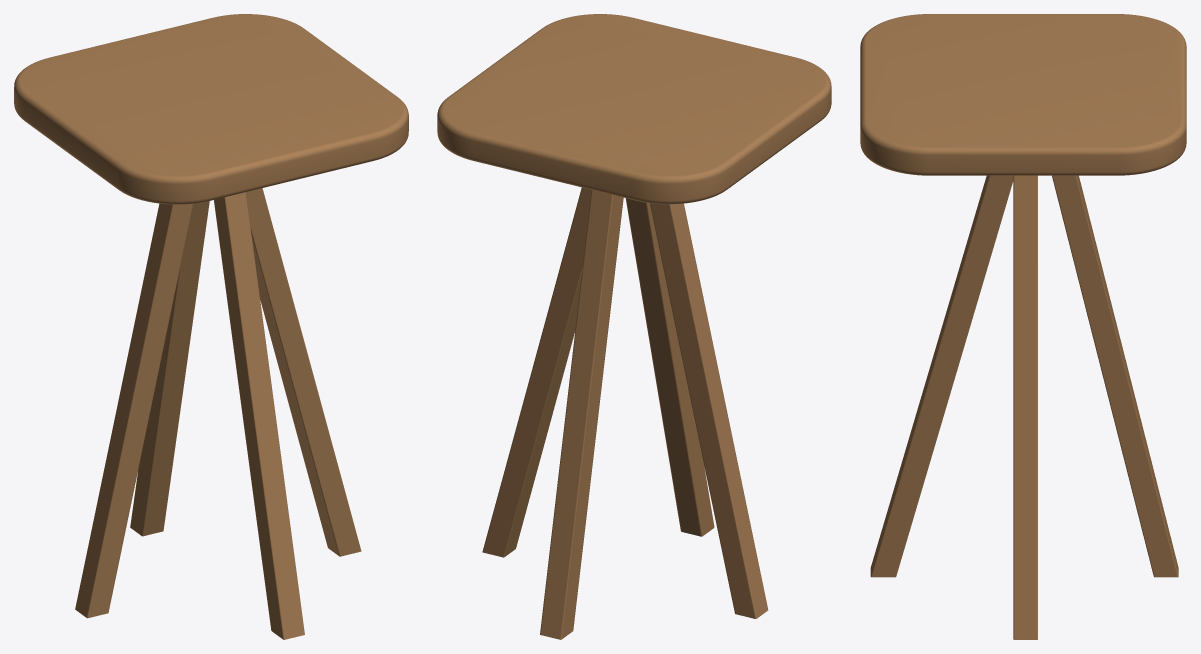
3 renders of one model, left to right at view 1: azimuth 30°, elevation 25°; view 2: azimuth 150°, elevation 25°; view 3: azimuth 270°, elevation 25°, orthographic.
Visible parts, largest first — view 1: stool; view 2: stool; view 3: stool.
Boxes of the visible parts, x1,y1,x2,y2 form: stool: (14, 14, 408, 639); stool: (437, 14, 831, 639); stool: (860, 14, 1186, 639).
Size of the model in its own units: 0.4302 by 0.7 by 0.424.
